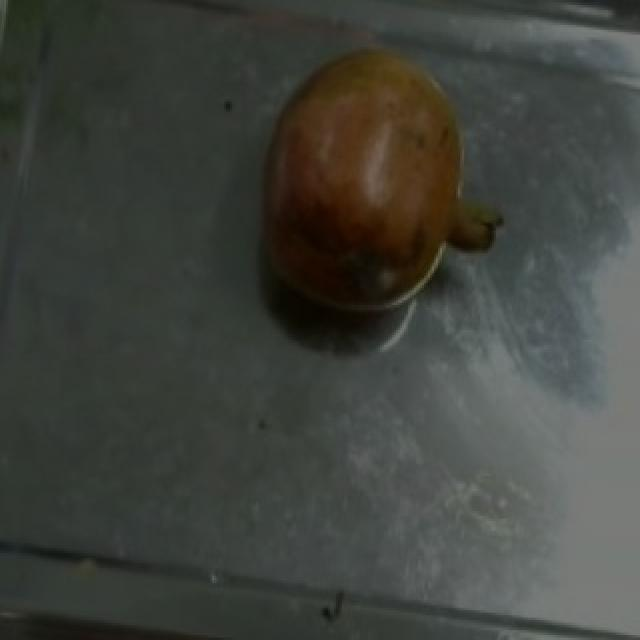fruit: (234, 22, 502, 312)
